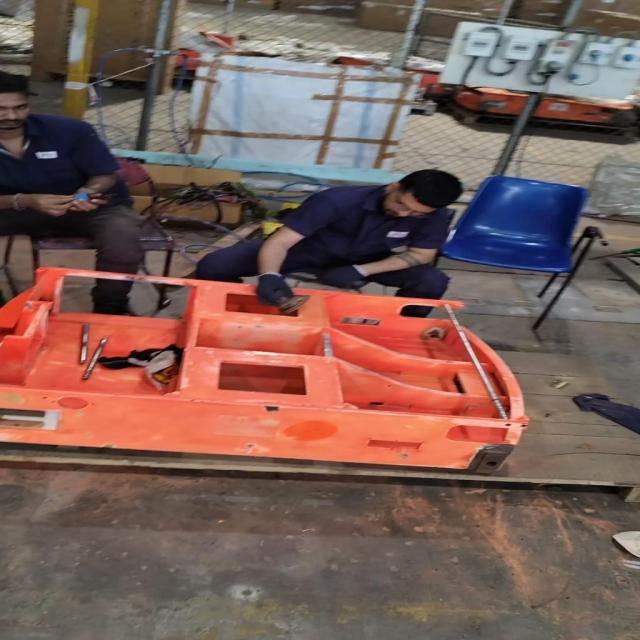Gloves-Detection: (251, 274, 292, 305), (321, 263, 362, 288)
